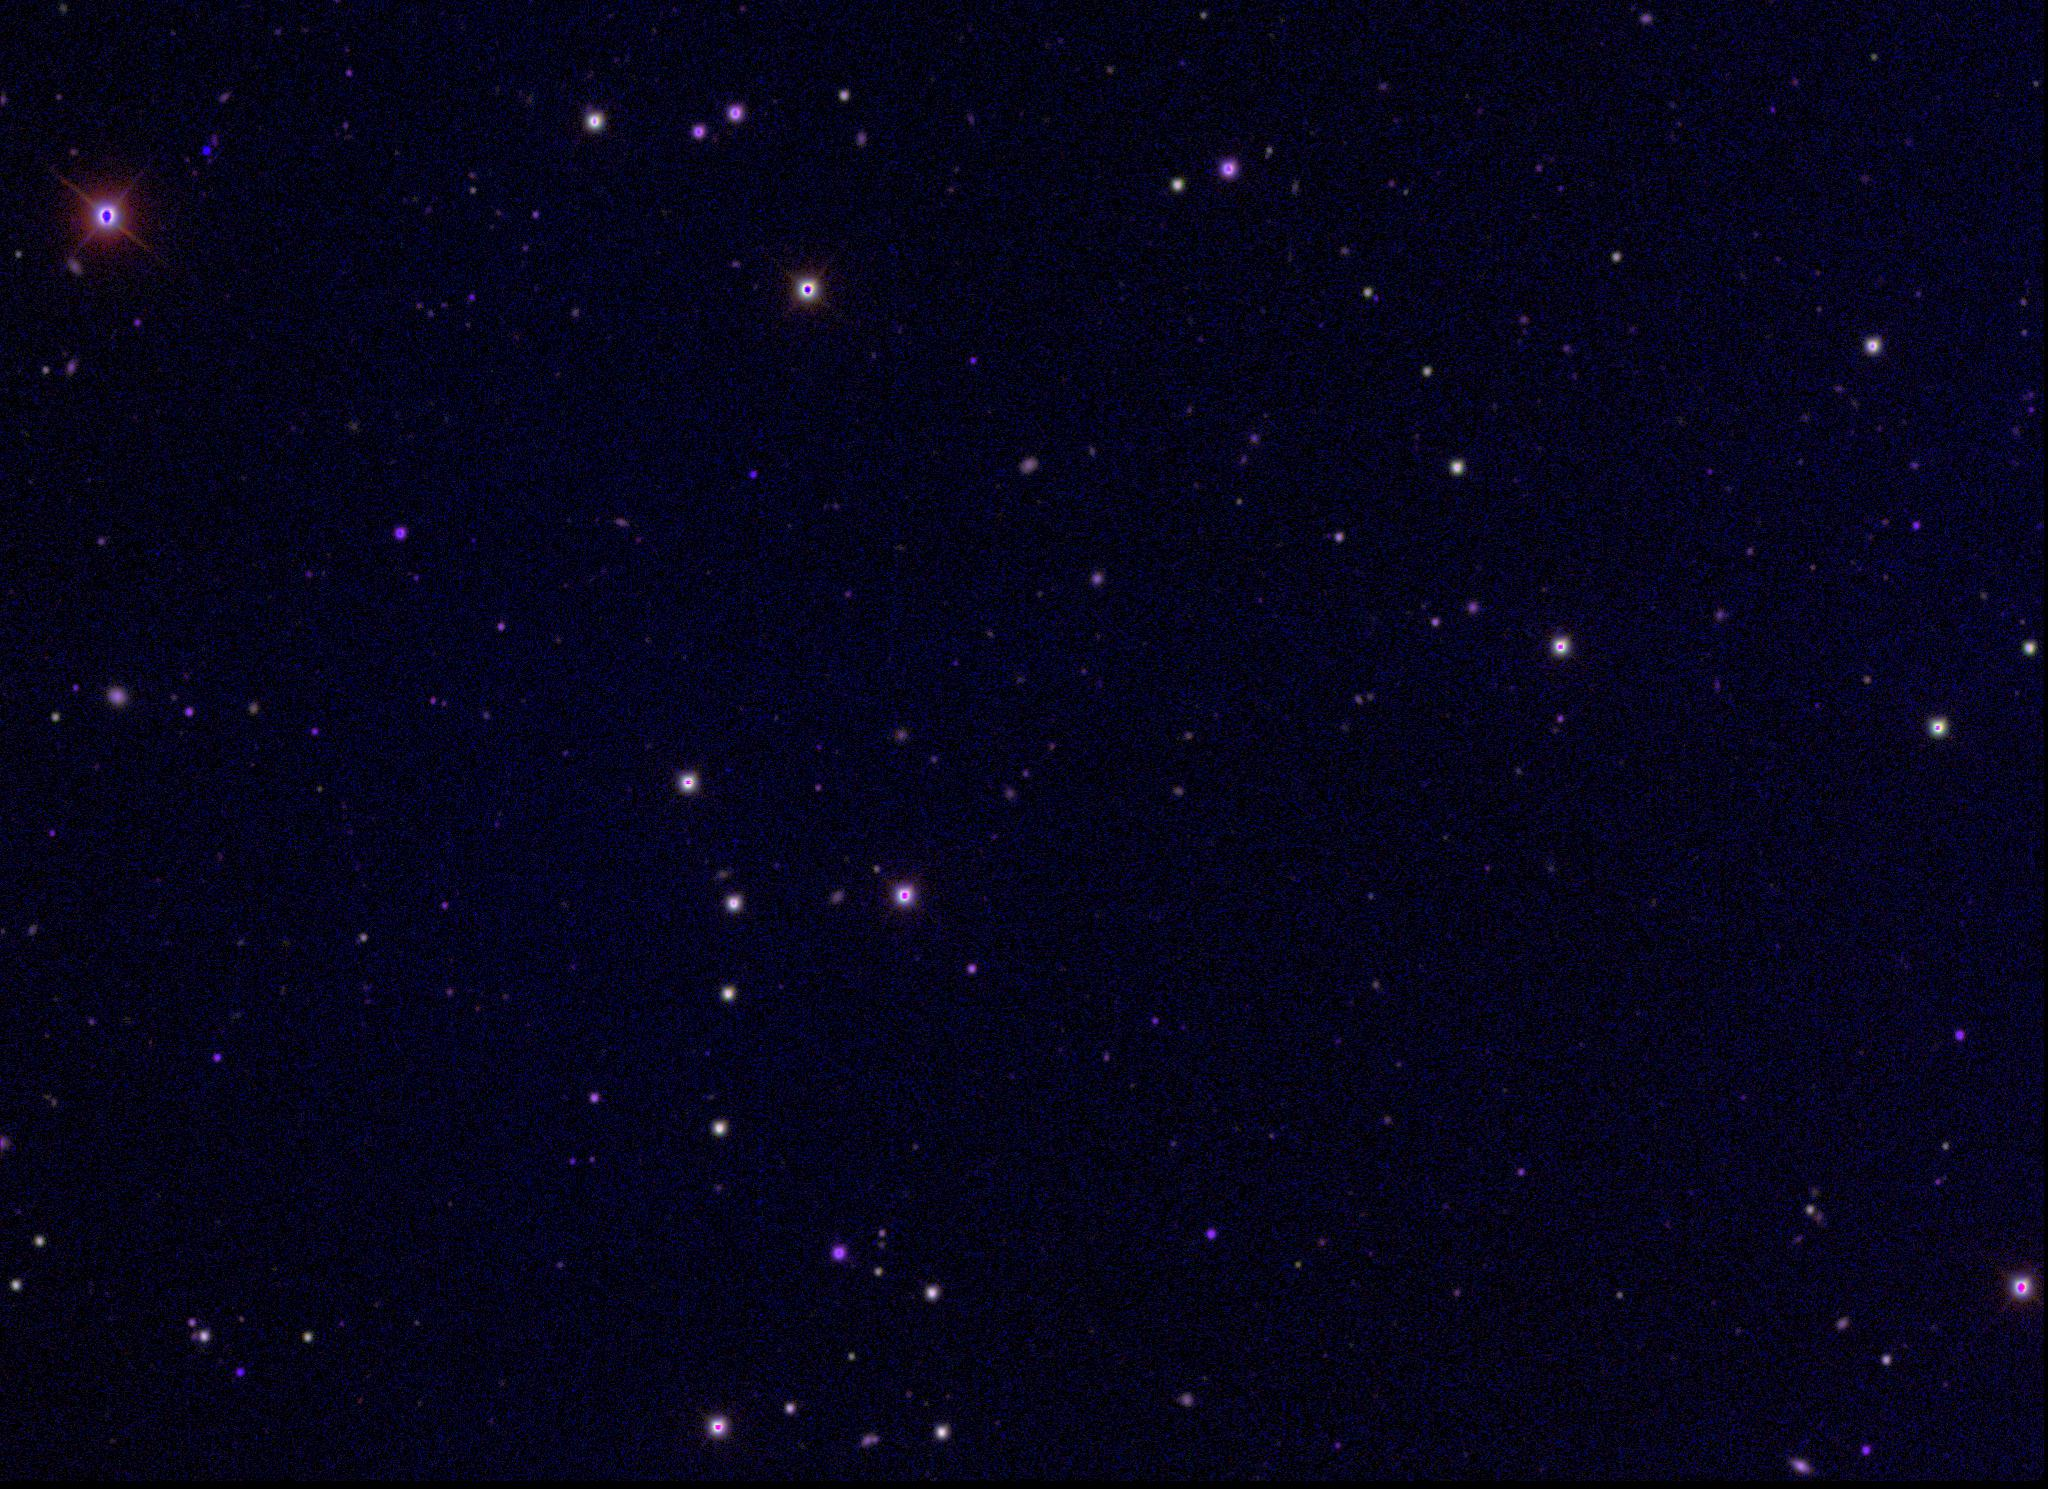L: (199, 145, 213, 157)
